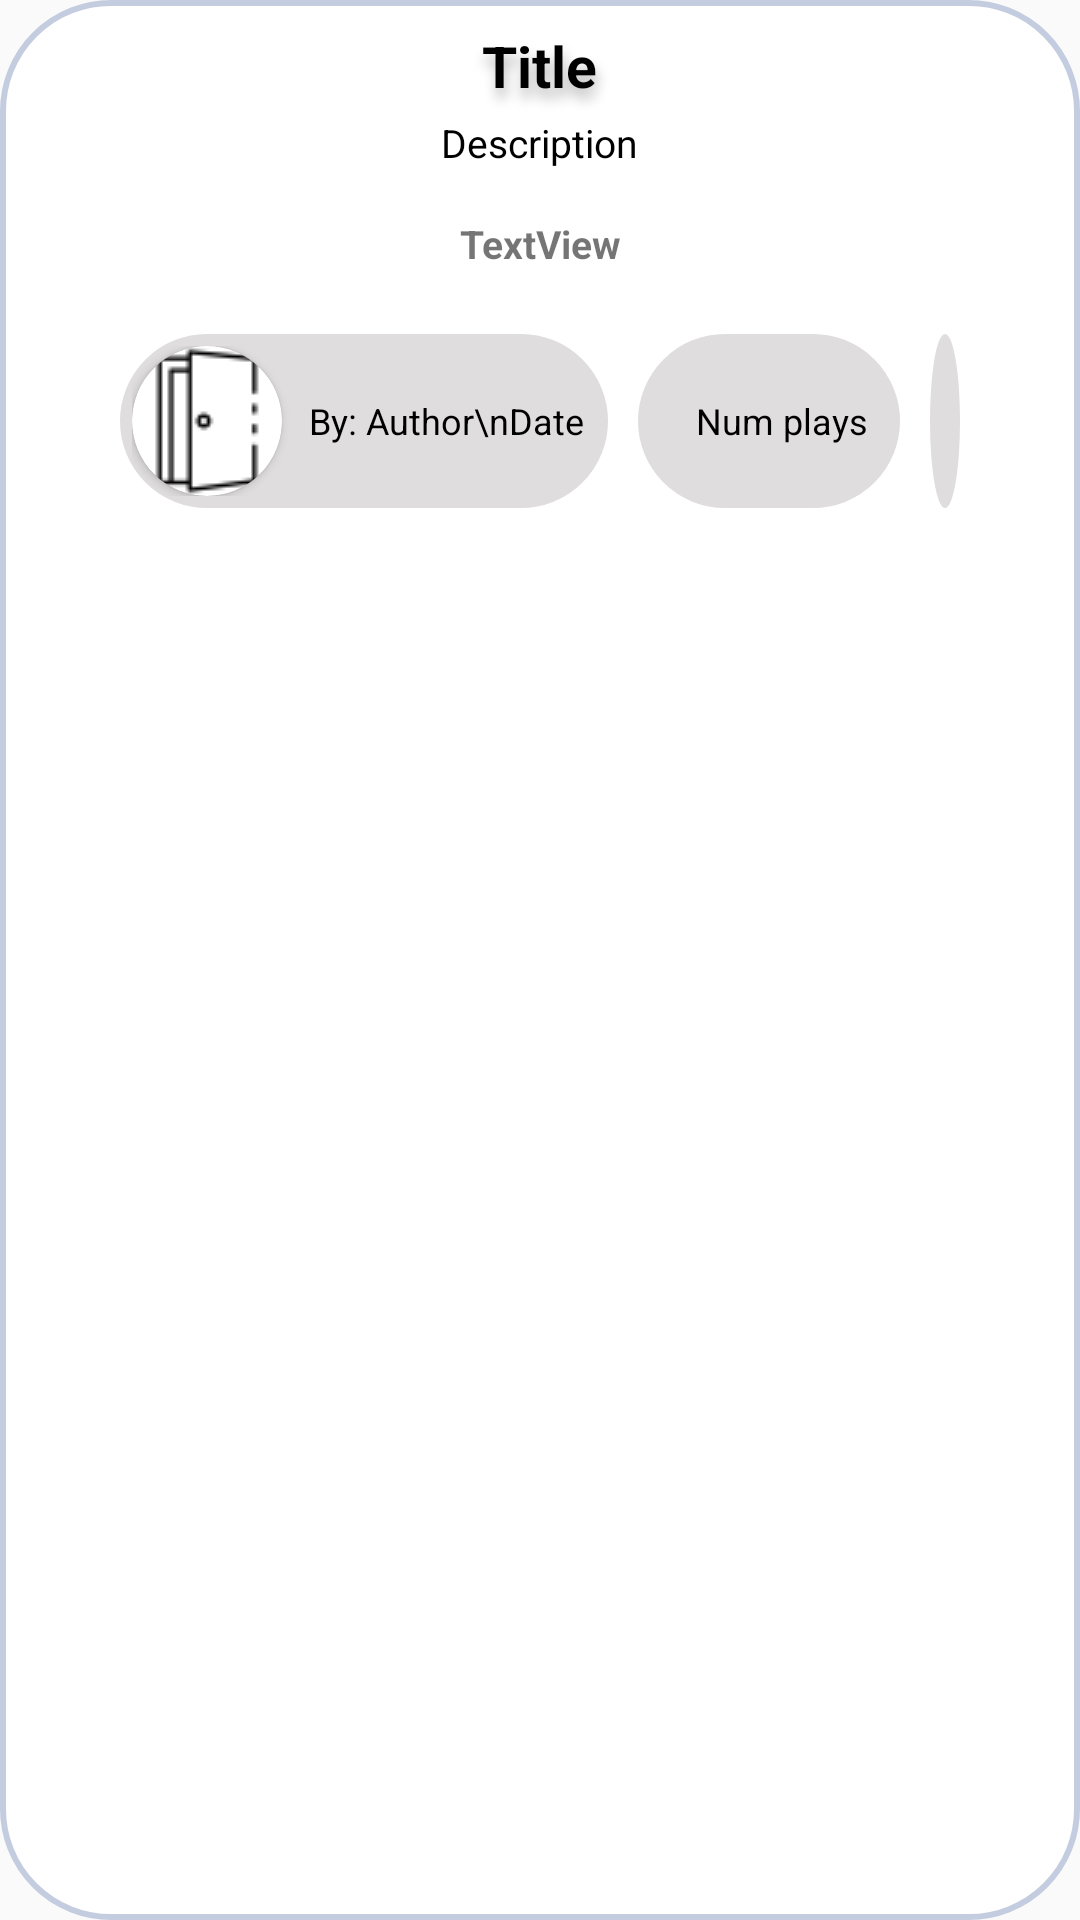

Screen size 1080px×1920px. Icon name, then its box in pixels as bbox(x1, y1, x2, y2):
open door: bbox(132, 346, 282, 496)
